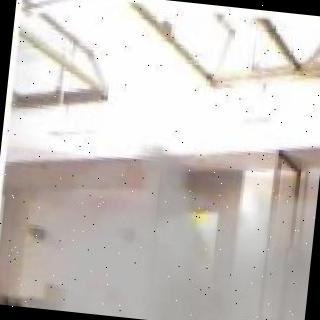smoke: (15, 96, 320, 320)
